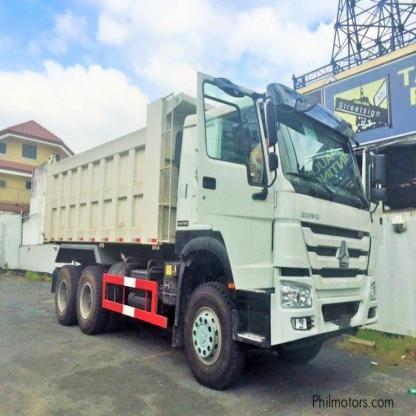dump_truck: (25, 86, 381, 388)
